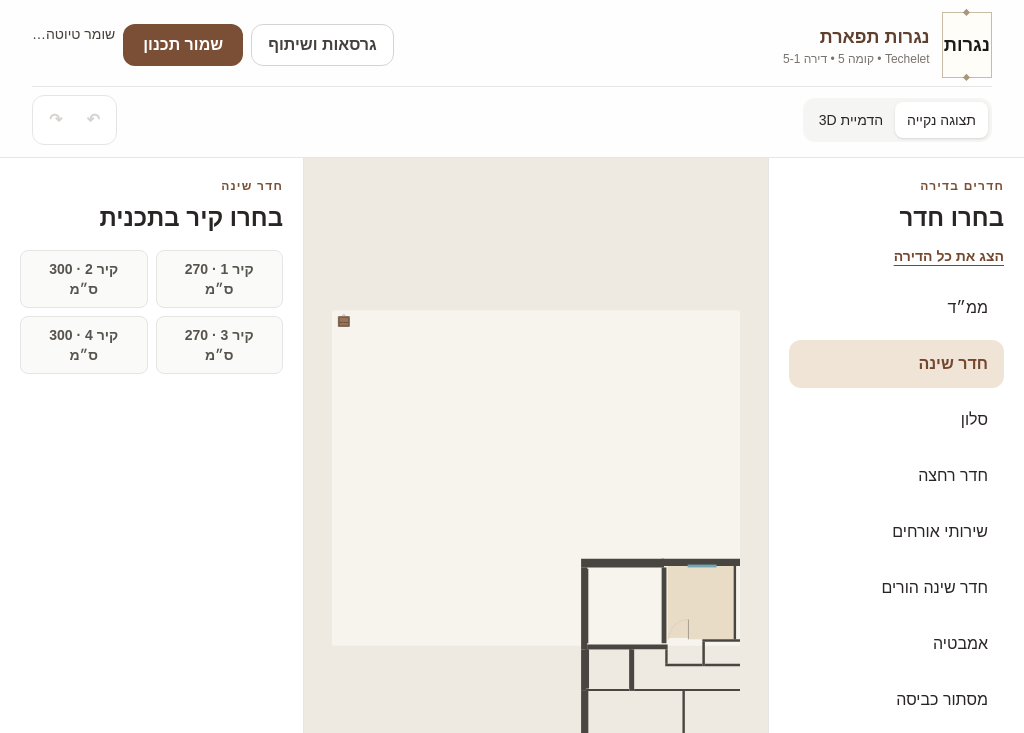
Scenario: Tiferet planner UI › מסרב לשמור ריהוט טעון שנמצא מחוץ לגבולות החדר
Click the button "שמור תכנון" at (183, 45), box [123,24,243,66]
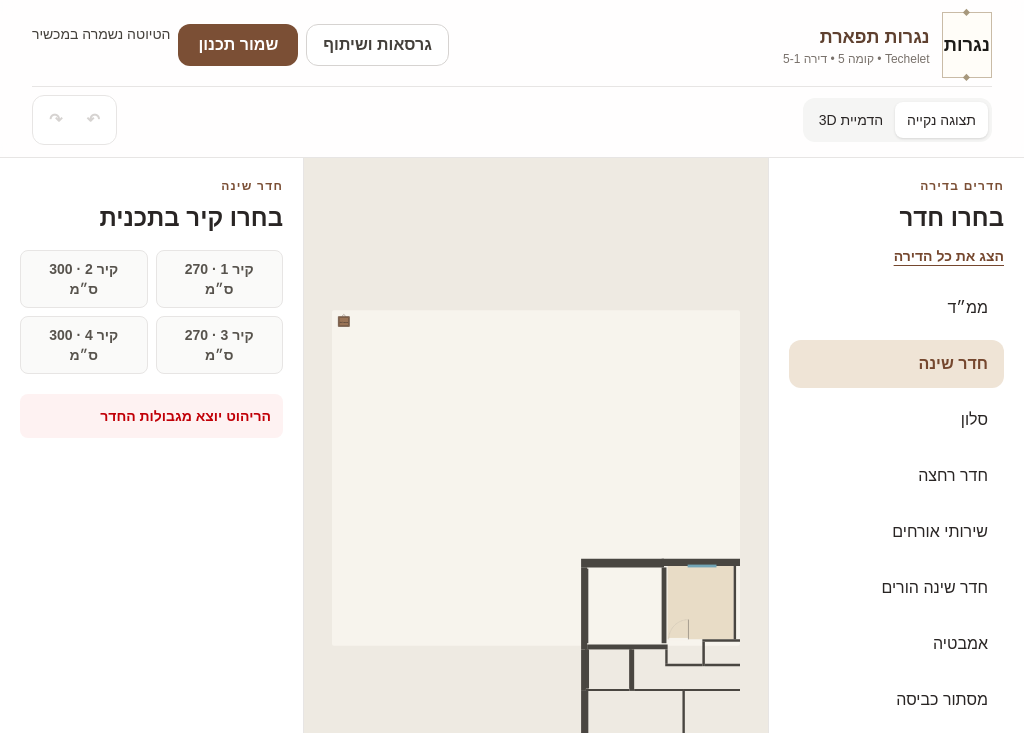
Now the message "הריהוט יוצא מגבולות החדר" is shown, box [20,394,283,438]
